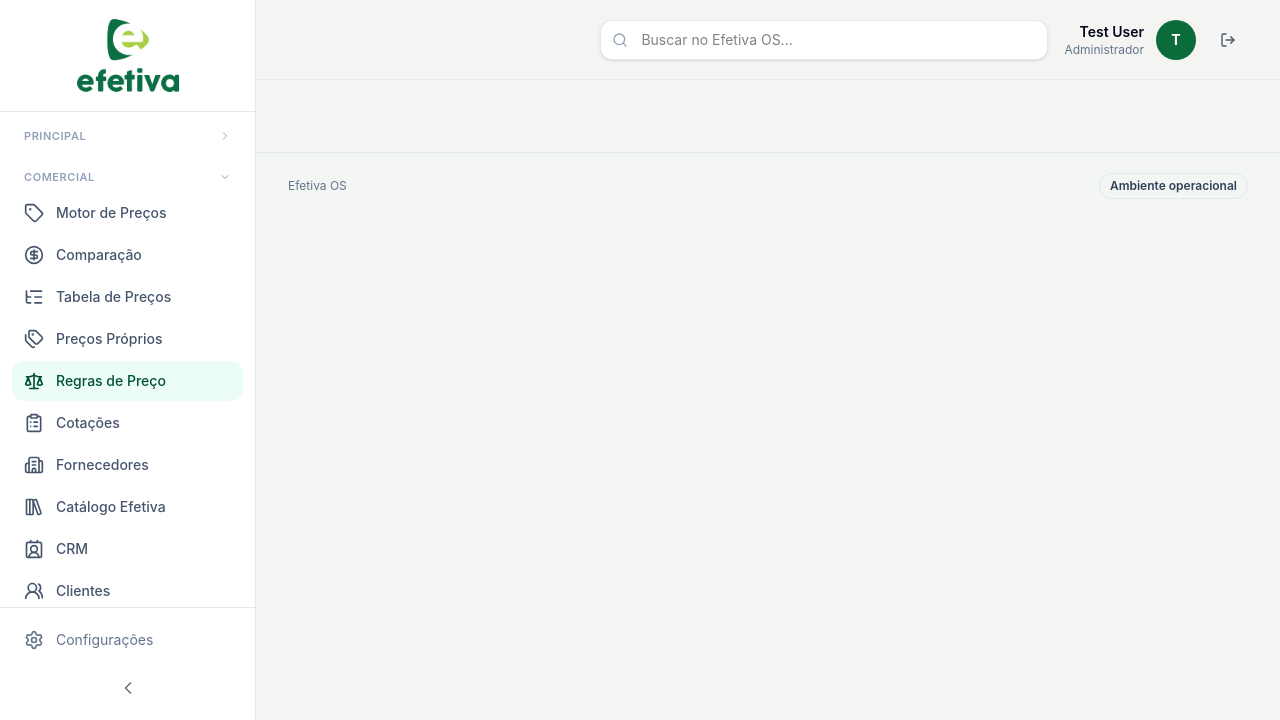
AppShell sidebar › shows adminOnly items for admin
This screenshot has width=1280, height=720.
Click the button "Comercial".
click(128, 177)  # box [12,164,243,189]
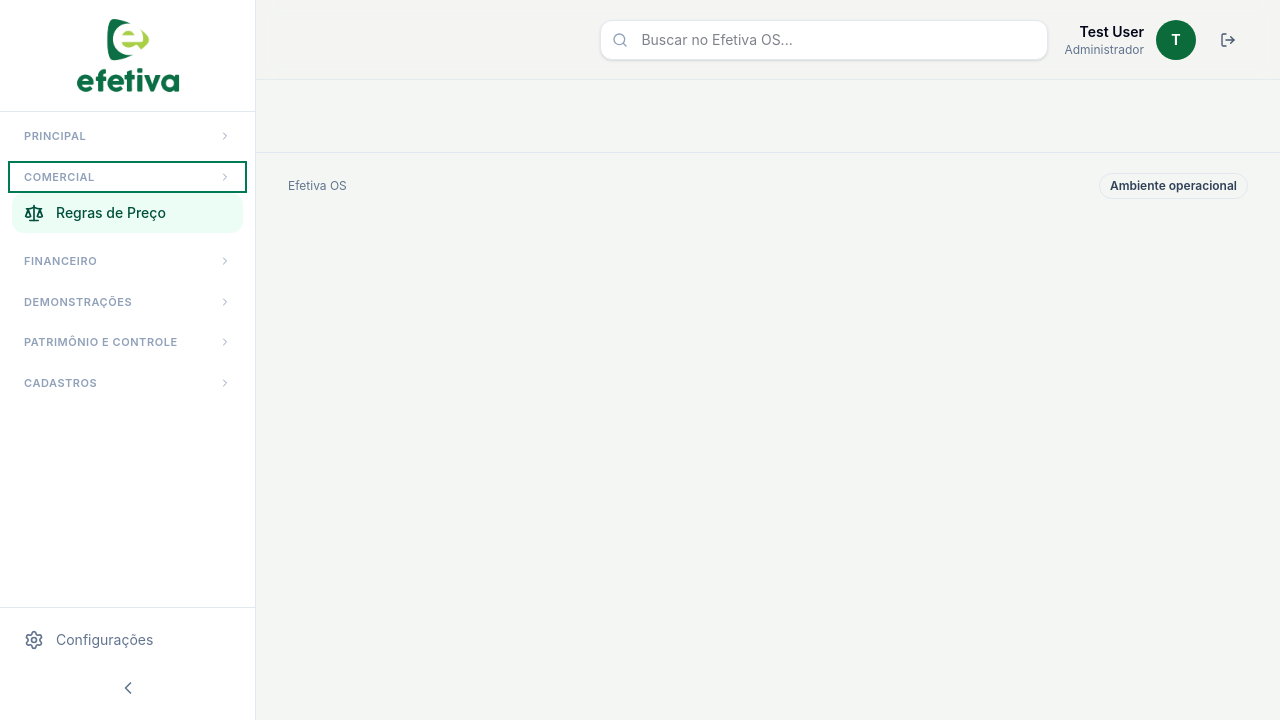
Click the button "Patrimônio e Controle".
click(128, 342)  # box [12,330,243,354]
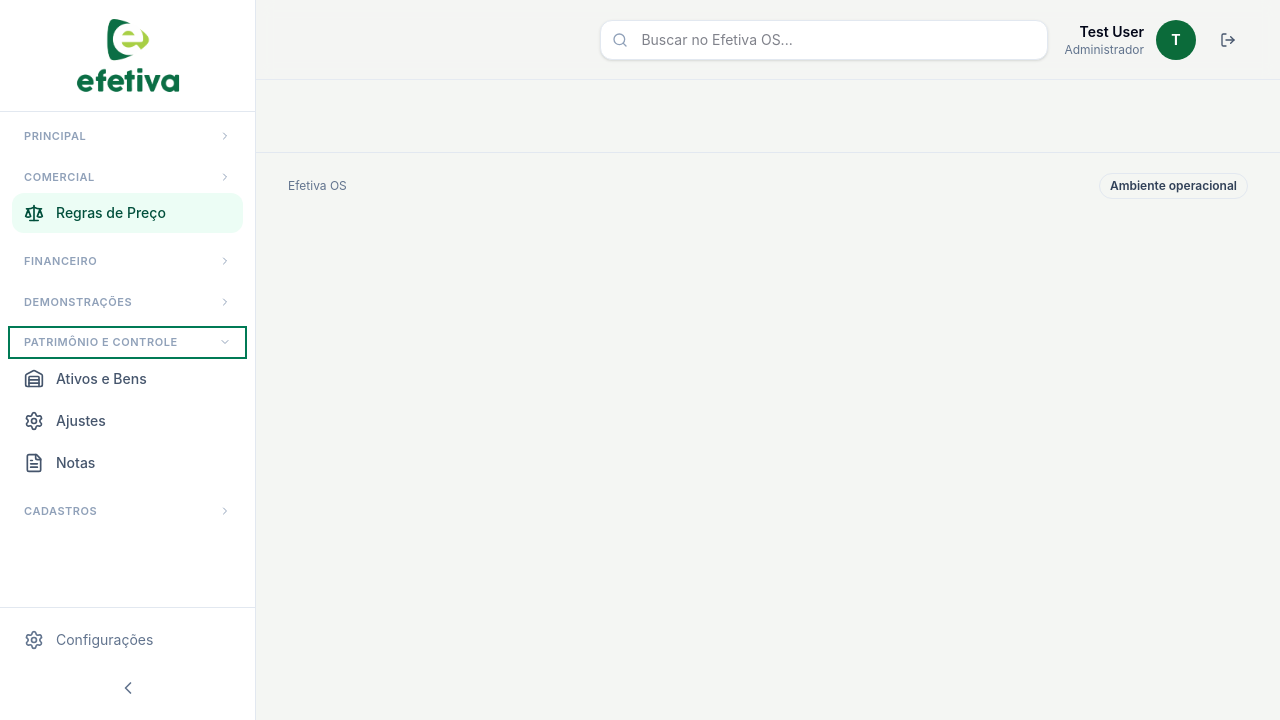
Expected: the text "Regras de Preço" is shown, [56,203,166,223]
Result: the text "Ajustes" is shown at [56,410,106,430]
